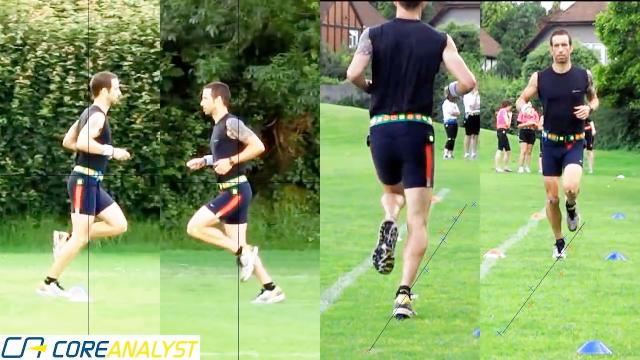berlari: (170, 78, 292, 308), (36, 64, 134, 304), (516, 26, 598, 264)
